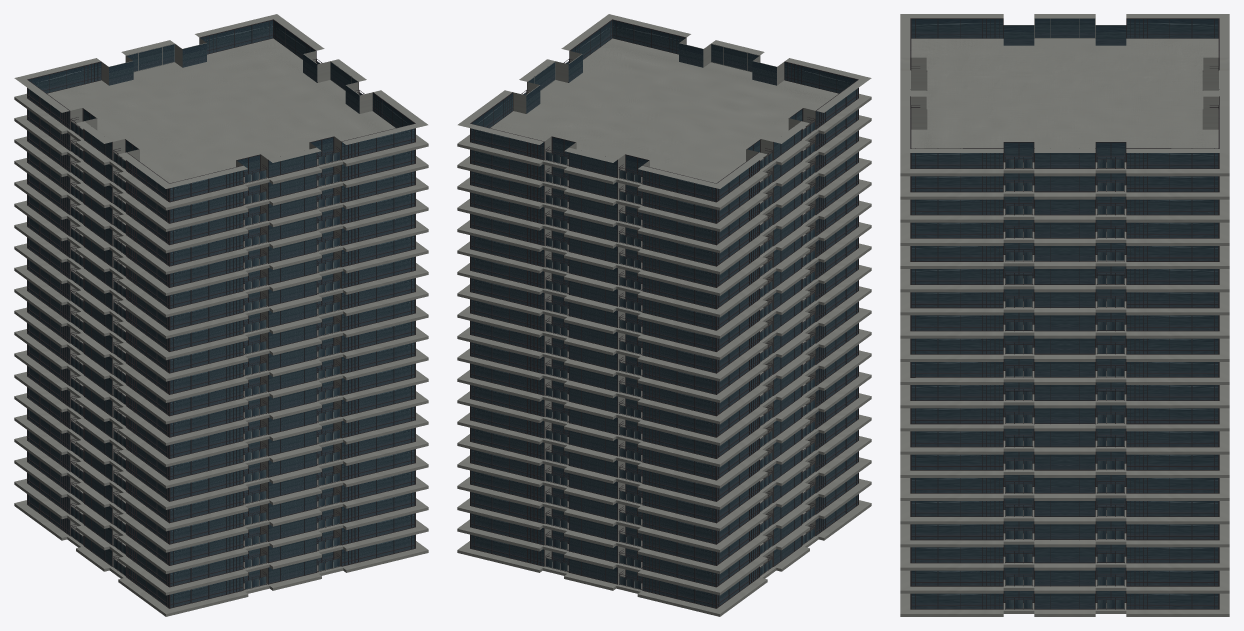
File: highrise_v9.fbx
3 renders of one model, left to right at view 1: azimuth 30°, elevation 25°; view 2: azimuth 150°, elevation 25°; view 3: azimuth 270°, elevation 25°, orthographic. The views are drawn at different scales.
Visible parts, largest first — view 1: Cube.001; view 2: Cube.001; view 3: Cube.001.
Part boxes in pixels (x1,y1,x2,y2): Cube.001: (14, 14, 428, 616); Cube.001: (457, 14, 871, 616); Cube.001: (900, 14, 1229, 616).
Size of the model in its own units: 200 by 311 by 200.
